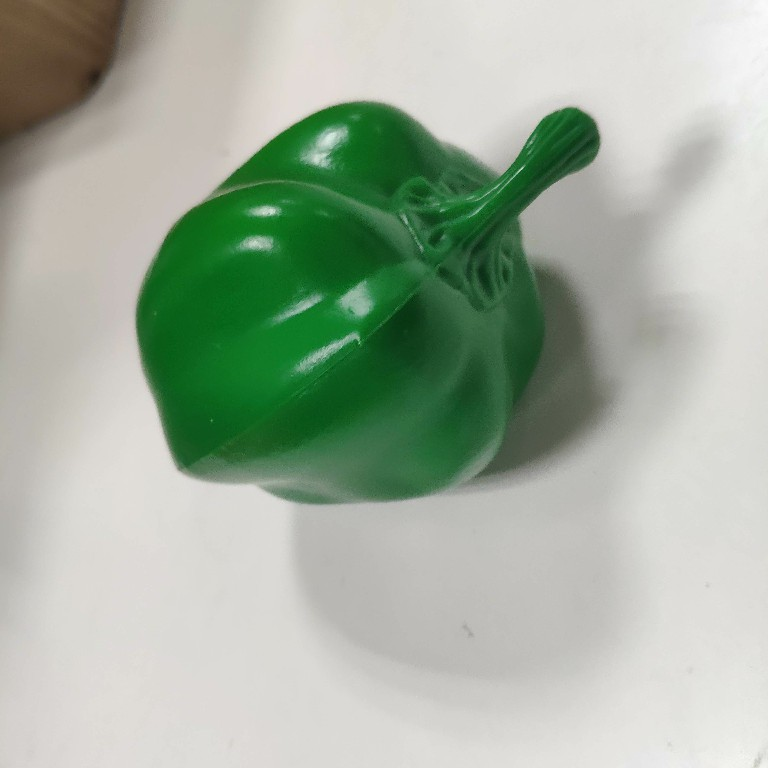fruit_pepper: (124, 93, 610, 512)
